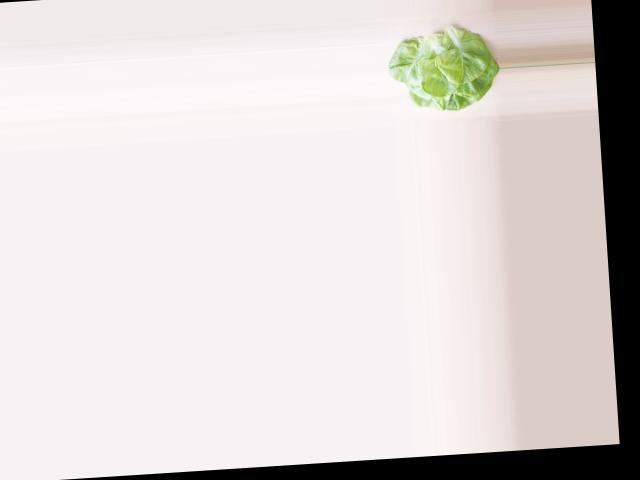lettuce: (389, 26, 499, 114)
